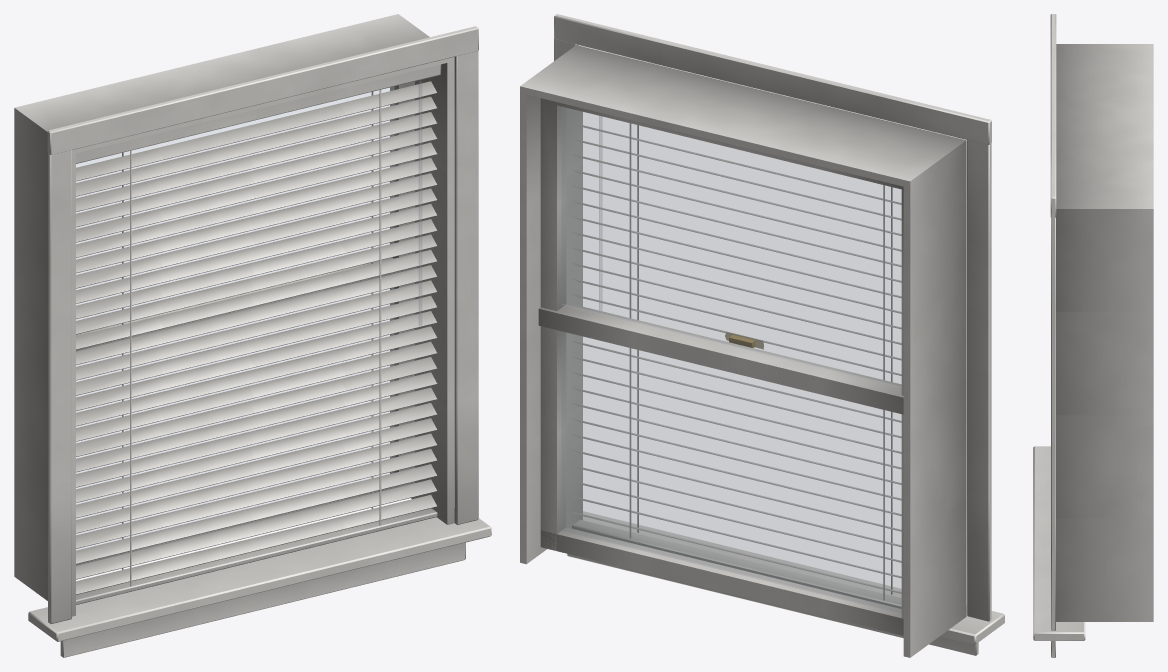
File: window_blinds.glb
3 views of the same model, side by side, from view 1: azimuth 30°, elevation 25°; view 2: azimuth 150°, elevation 25°; view 3: azimuth 270°, elevation 25° (orthographic). The views are drawn at different scales.
Visible parts, largest first — view 1: body, opt_sill, glass; view 2: body, glass, opt_sill; view 3: body, opt_sill.
Part boxes in pixels (bbox=[...]): body: bbox=[14, 14, 478, 623]; opt_sill: bbox=[28, 508, 491, 657]; glass: bbox=[76, 86, 394, 550]; body: bbox=[520, 14, 991, 657]; glass: bbox=[561, 107, 901, 613]; opt_sill: bbox=[567, 511, 1004, 655]; body: bbox=[1050, 14, 1153, 630]; opt_sill: bbox=[1033, 446, 1085, 657].
Size of what is drawn, in the model's own units: 1.36 by 1.58 by 0.37.
5 materials, 2 textured.
